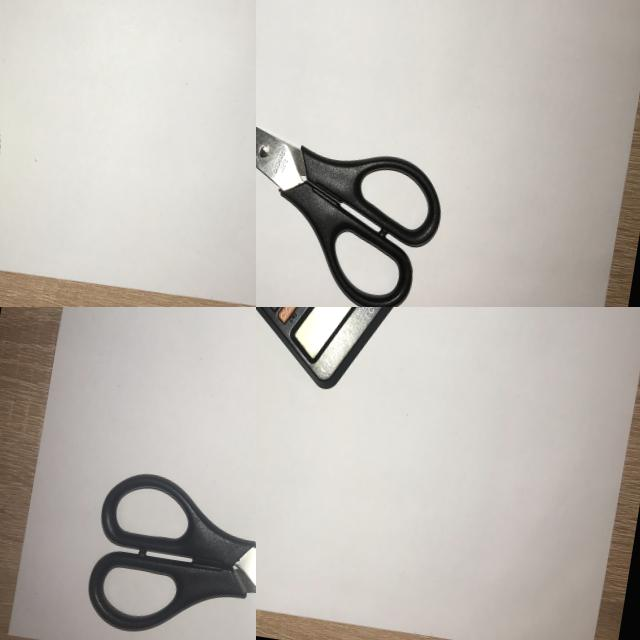calculator: (256, 307, 427, 404)
scissors: (256, 56, 464, 307), (72, 462, 256, 640)
